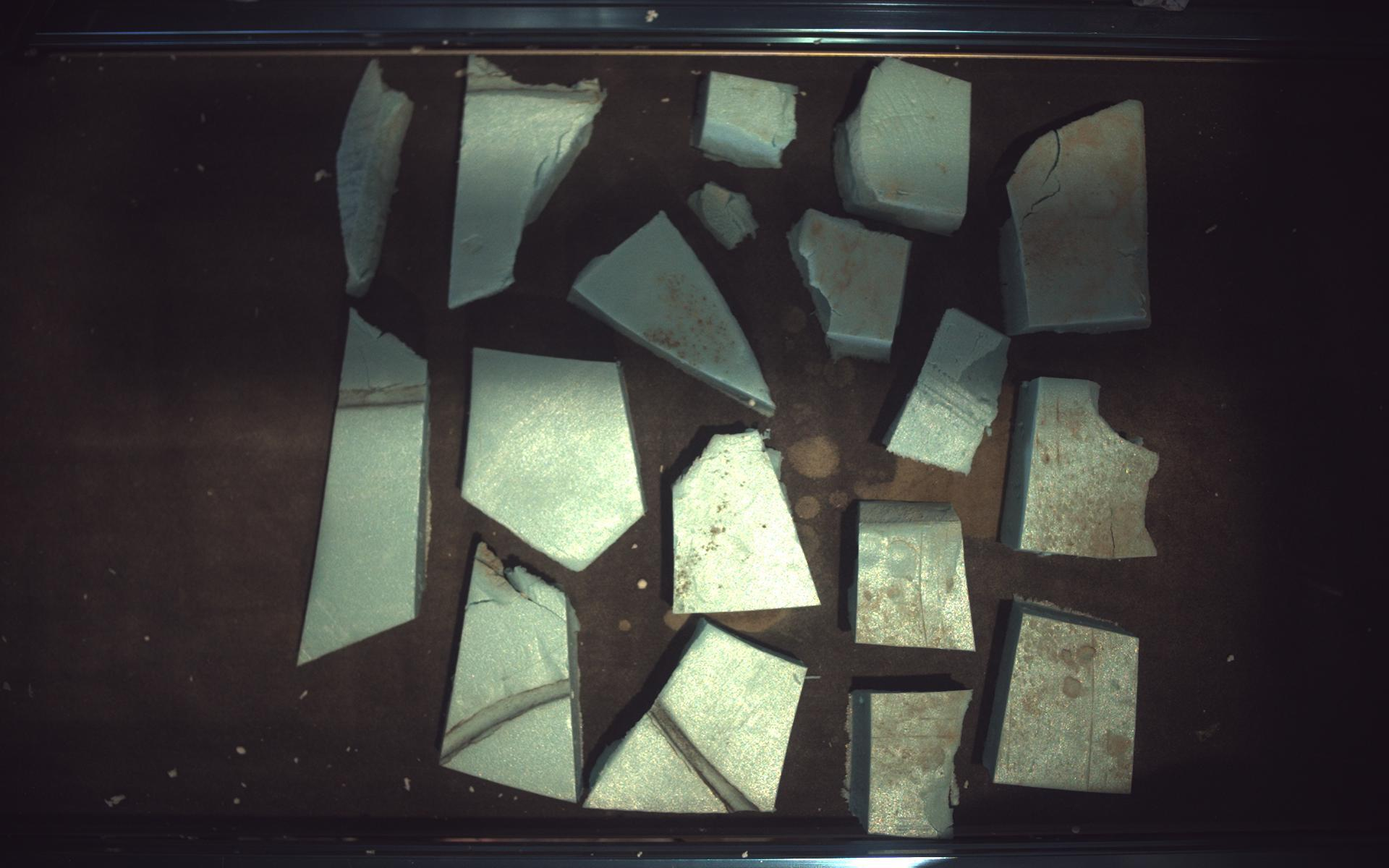foam: (297, 309, 430, 665), (585, 619, 807, 814), (570, 211, 776, 417), (462, 347, 645, 571), (449, 56, 606, 307), (440, 543, 582, 804), (1003, 99, 1152, 334), (986, 600, 1141, 795), (1003, 377, 1161, 559), (674, 430, 821, 614), (836, 56, 973, 234), (888, 308, 1011, 473), (849, 687, 974, 839), (789, 208, 912, 362), (850, 503, 977, 652), (336, 58, 413, 297), (692, 70, 799, 167), (688, 182, 760, 249)
